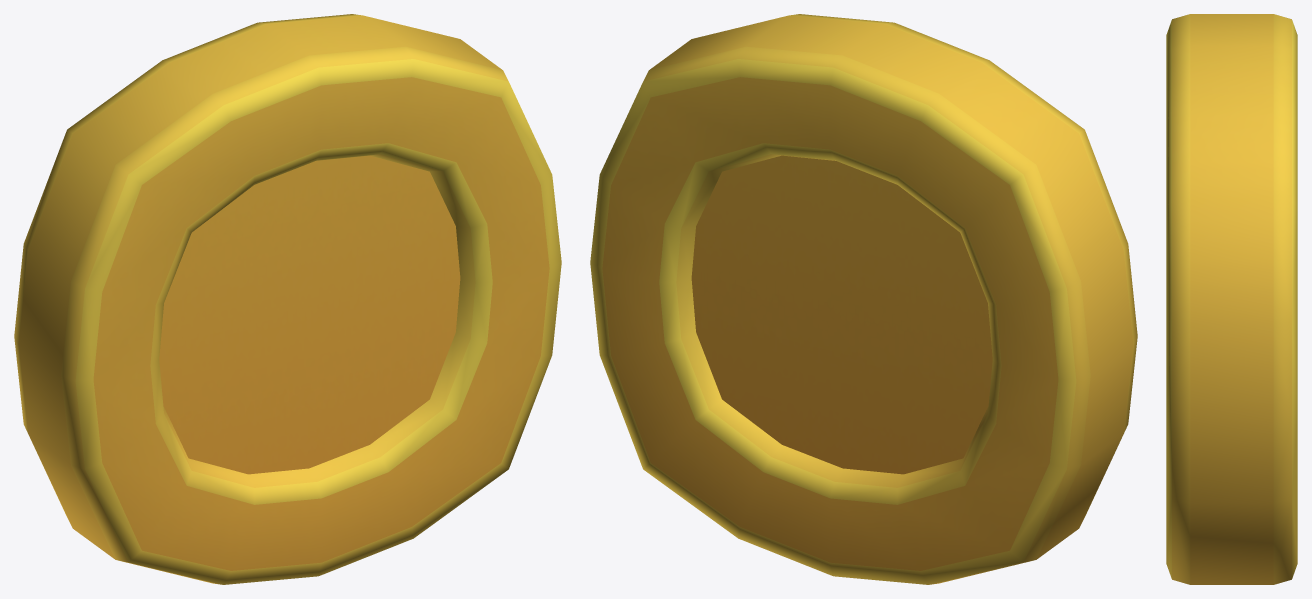
File: powerup_coin_1_LOD1_cube_mat_0.glb
The picture shows the model from 3 angles, left to right: view 1: azimuth 30°, elevation 25°; view 2: azimuth 150°, elevation 25°; view 3: azimuth 270°, elevation 25°; orthographic projection. The views are drawn at different scales.
Visible parts, largest first — view 1: powerup_coin_1_LOD1_cube_mat_0; view 2: powerup_coin_1_LOD1_cube_mat_0; view 3: powerup_coin_1_LOD1_cube_mat_0.
Boxes of the visible parts, x1,y1,x2,y2 form: powerup_coin_1_LOD1_cube_mat_0: (14,14,561,584); powerup_coin_1_LOD1_cube_mat_0: (590,14,1137,584); powerup_coin_1_LOD1_cube_mat_0: (1166,14,1297,584).
Size of the model in its own units: 2.7 by 2.7 by 0.6319.
1 material, 1 textured.
